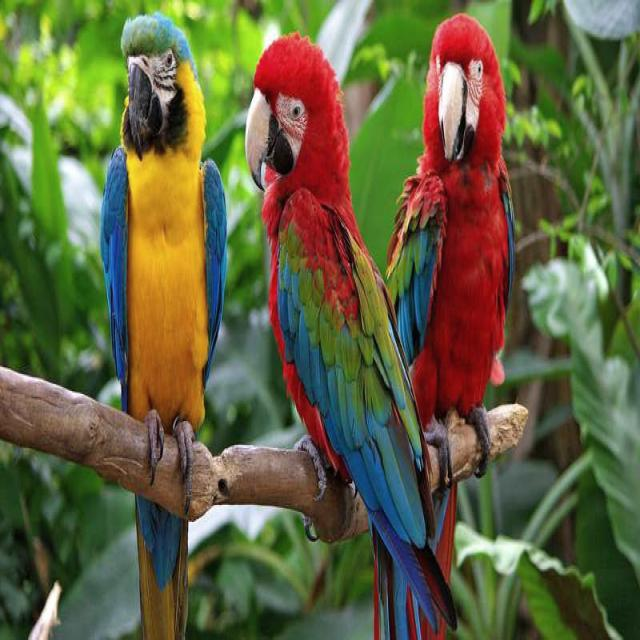parrot: (246, 33, 454, 639), (387, 14, 514, 488), (122, 13, 210, 489)
